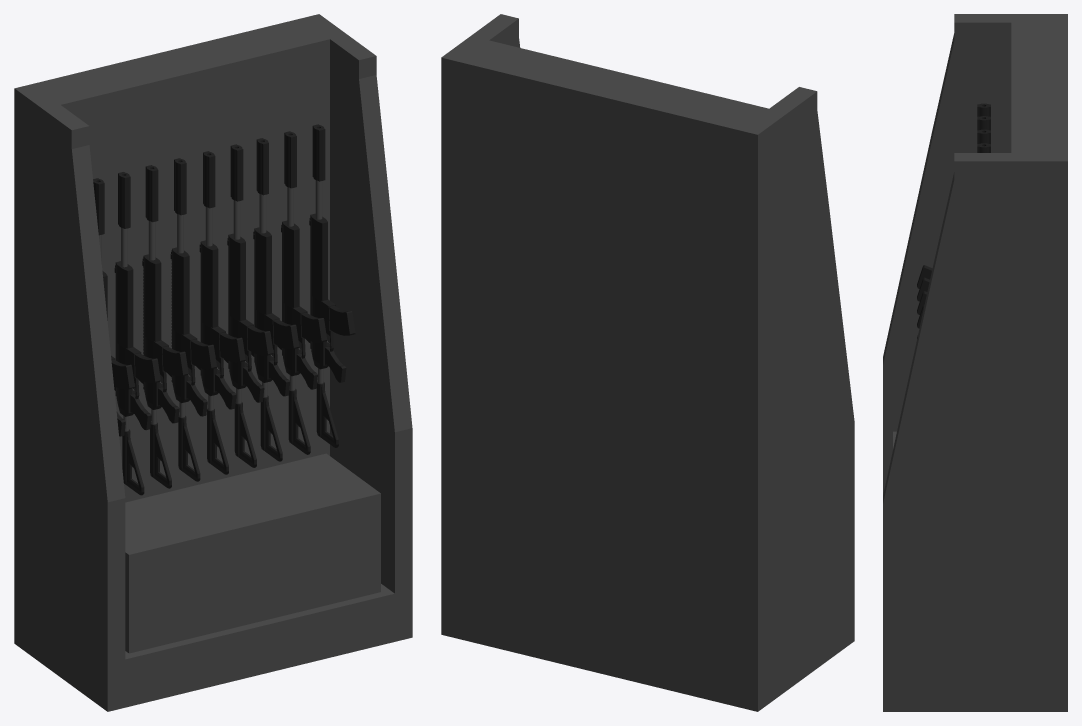
Rendered from weaponlocker2.fbx.
3 views of the same model, side by side, from view 1: azimuth 30°, elevation 25°; view 2: azimuth 150°, elevation 25°; view 3: azimuth 270°, elevation 25° (orthographic). The views are drawn at different scales.
Visible parts, largest first — view 1: locker; view 2: locker; view 3: locker.
Boxes of the visible parts, x1,y1,x2,y2 form: locker: (14, 14, 412, 711); locker: (441, 14, 854, 711); locker: (883, 14, 1067, 711).
Bounding box in the file's own units: 200 × 348 × 106.
